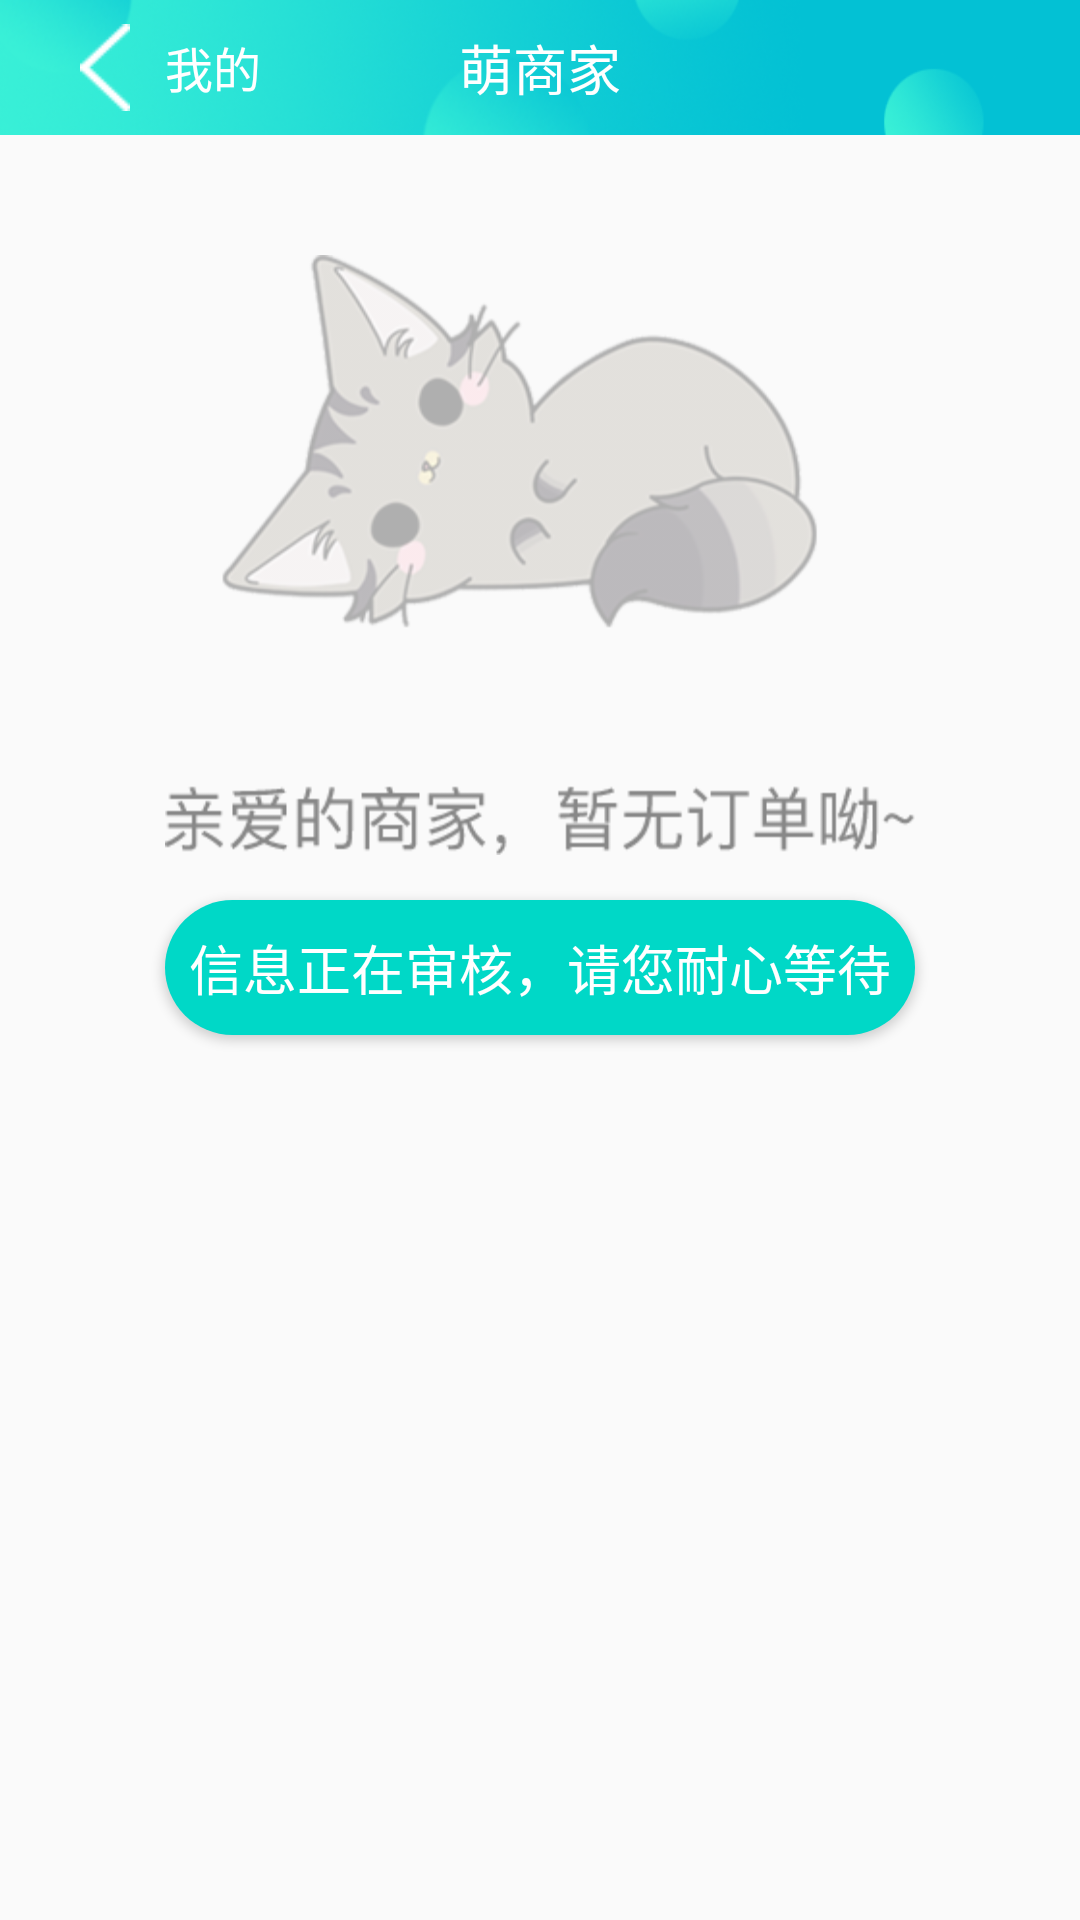

Locate icon controls on the screen. Image size 1080*1920, boxes as [x1, y1, x2, y2].
return arraw: [80, 0, 130, 111]
